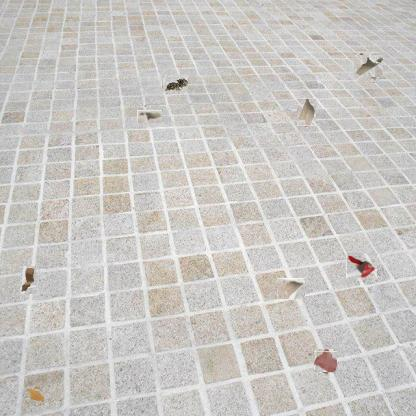dirty: (346, 252, 377, 278), (355, 53, 381, 80), (277, 278, 305, 299), (296, 98, 316, 126), (20, 266, 36, 294), (162, 76, 188, 92), (137, 110, 162, 123)
liquid: (314, 350, 337, 373), (26, 387, 42, 405)
